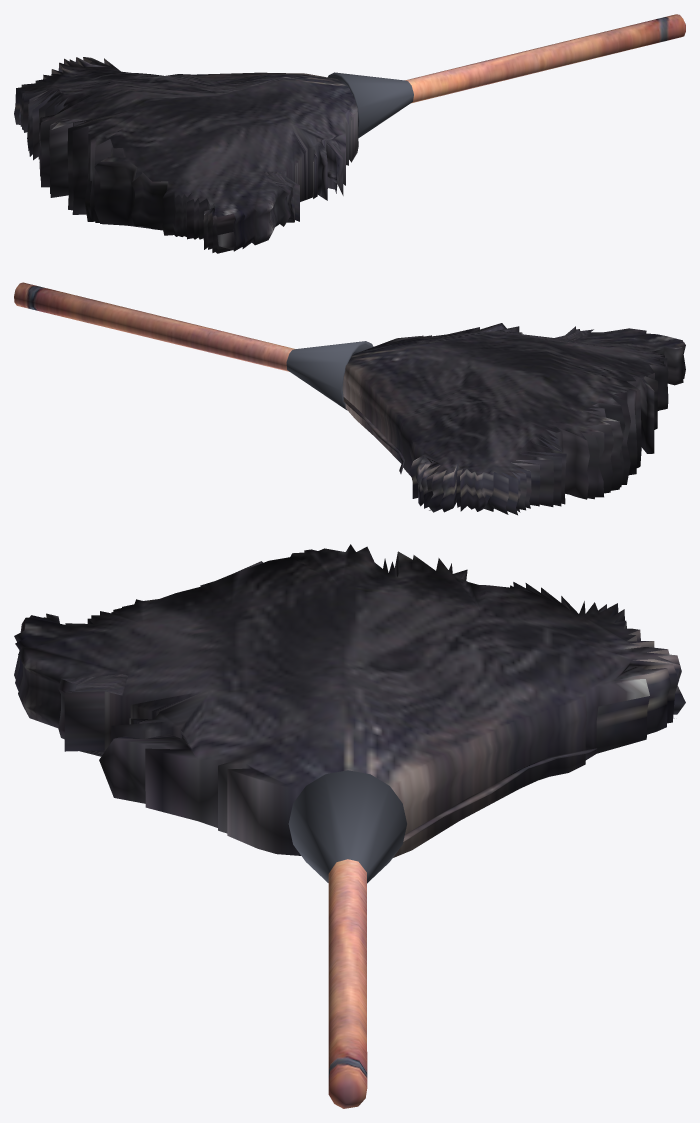
Rendered from WorldItem_FeatherDuster.fbx.
3 views of the same model, one above another, from view 1: azimuth 30°, elevation 25°; view 2: azimuth 150°, elevation 25°; view 3: azimuth 270°, elevation 25° (orthographic). The views are drawn at different scales.
Visible parts, largest first — view 1: Cylinder; view 2: Cylinder; view 3: Cylinder.
Part boxes in pixels (left/top/right/bottom): Cylinder: left=14, top=14, right=685, bottom=253; Cylinder: left=14, top=282, right=685, bottom=515; Cylinder: left=14, top=544, right=685, bottom=1108.
Size of the model in its own units: 0.3527 by 0.0544 by 0.2046.
